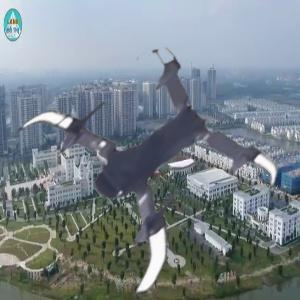drone: (17, 51, 256, 290)
